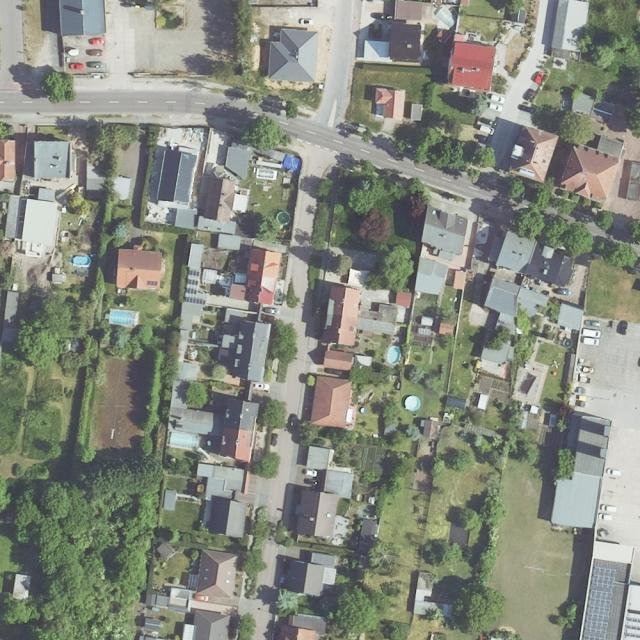PV: (581, 566, 616, 640), (183, 269, 206, 305), (624, 616, 640, 637), (147, 281, 157, 286)
